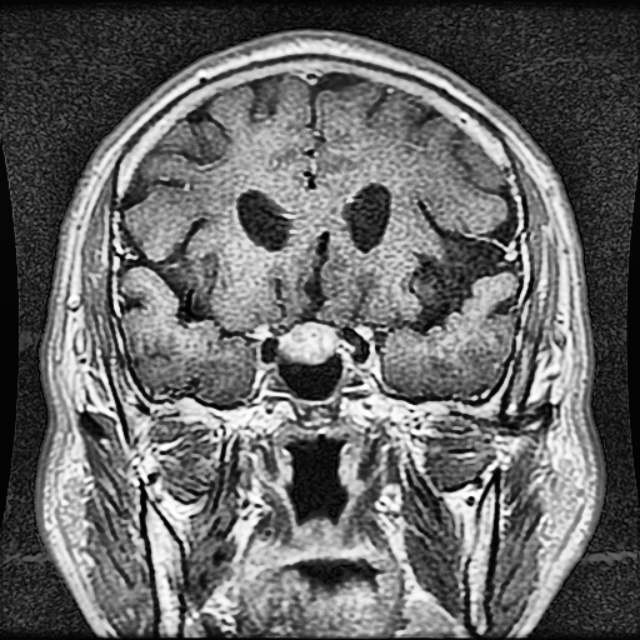Pituitary: (278, 319, 343, 363)
